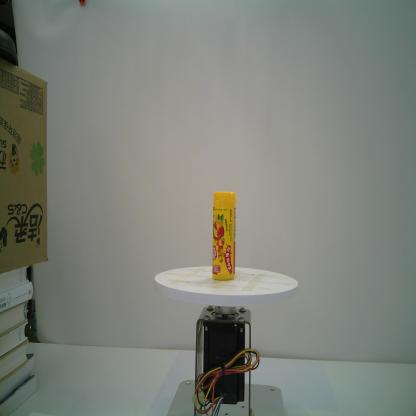Candy: (211, 190, 238, 282)
